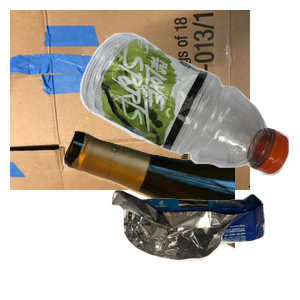cardboard: (10, 10, 250, 190)
glass: (60, 128, 300, 300)
plastic: (77, 30, 300, 198)
trash: (109, 187, 300, 300)
